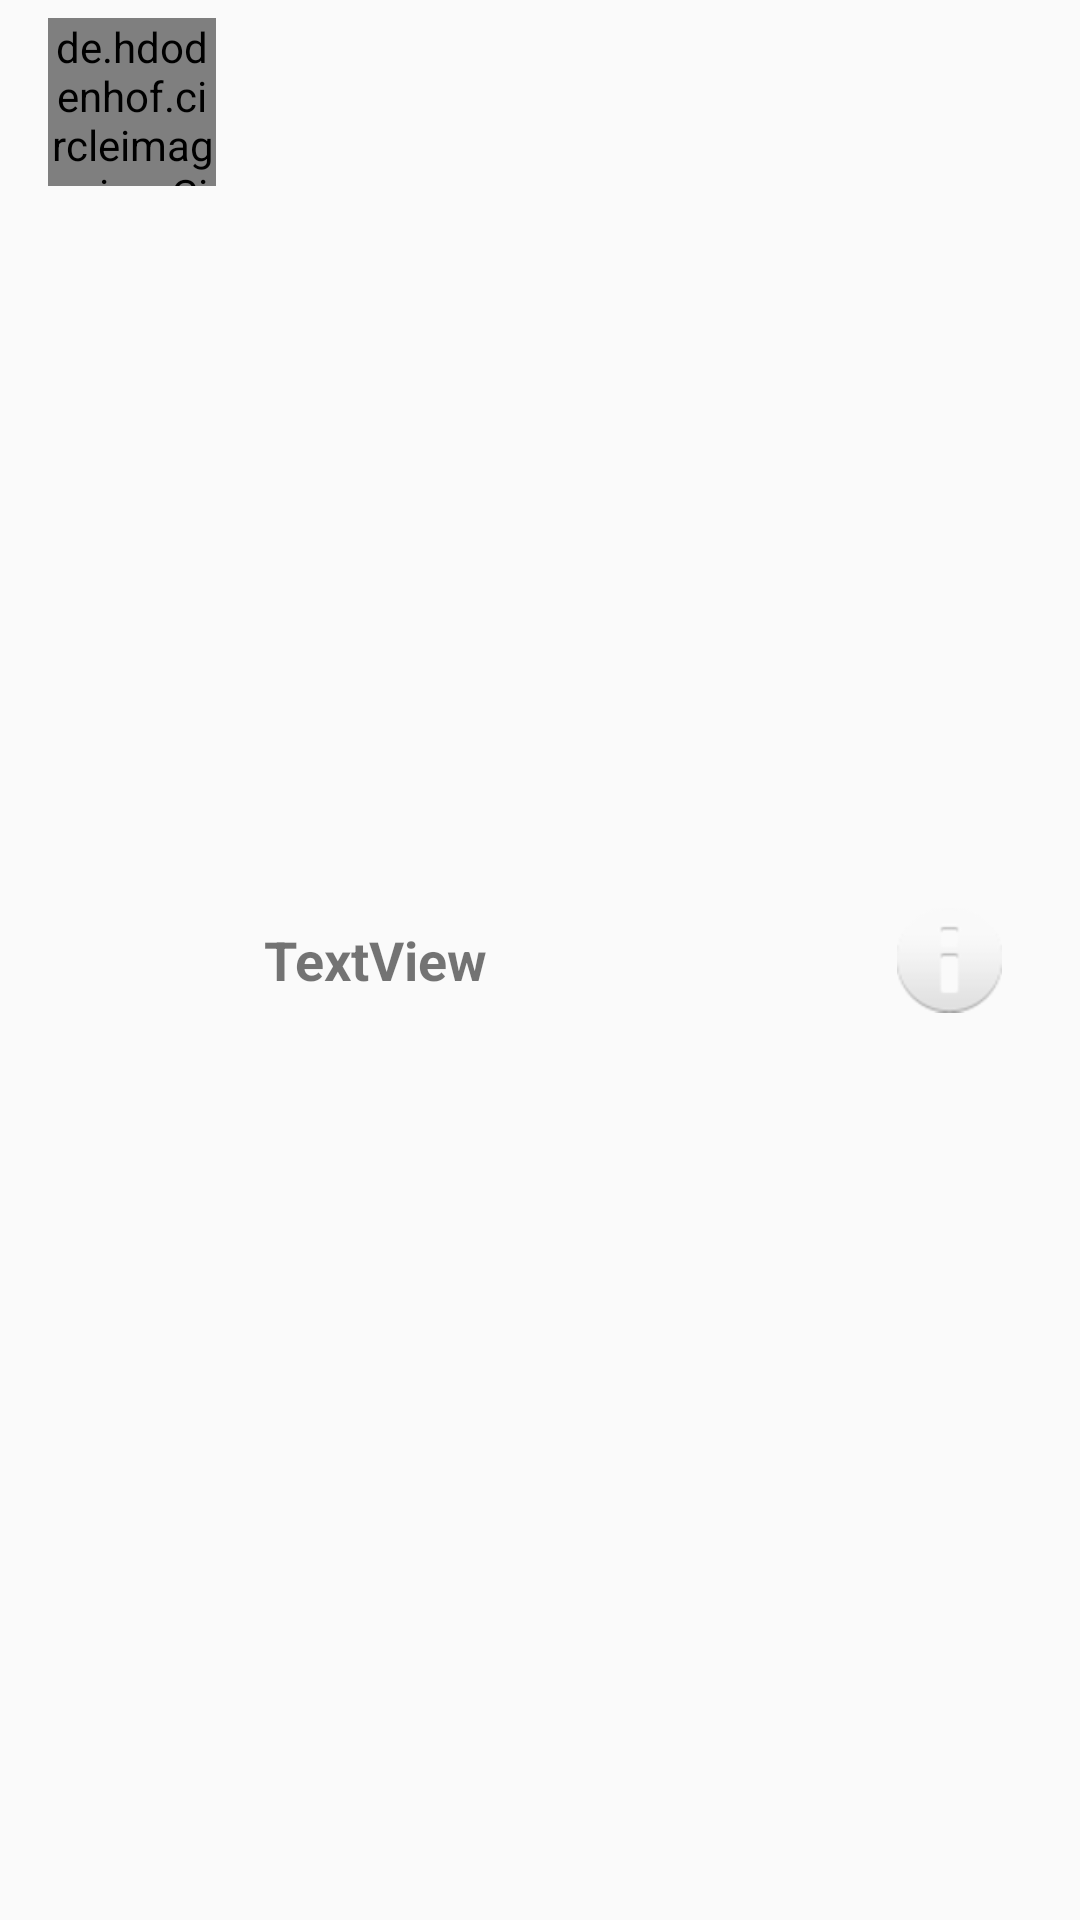

Icons on this 1080px×1920px Android screen, each with the point to tap as (x,y):
info: (949,970)
